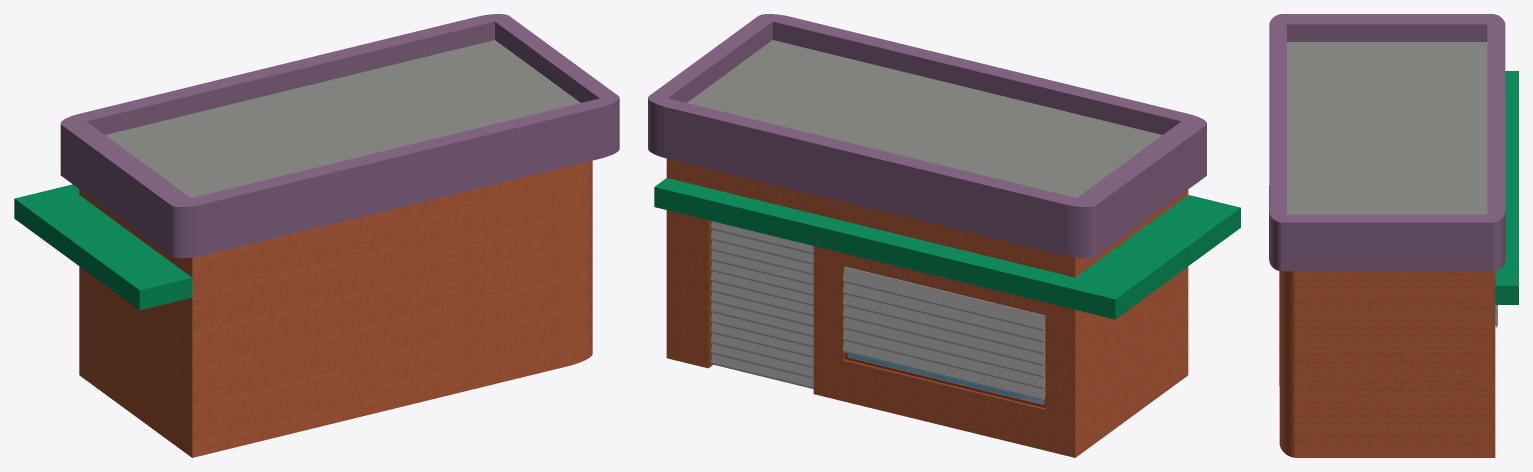
File: SmallShop.fbx
The picture shows the model from 3 angles, left to right: view 1: azimuth 30°, elevation 25°; view 2: azimuth 150°, elevation 25°; view 3: azimuth 270°, elevation 25°; orthographic projection. The views are drawn at different scales.
Visible parts, largest first — view 1: SmallShop; view 2: SmallShop; view 3: SmallShop.
Part boxes in pixels (x1,y1,x2,y2): SmallShop: [14, 14, 619, 457]; SmallShop: [648, 14, 1240, 457]; SmallShop: [1269, 14, 1518, 457].
Bounding box in the file's own units: 22.32 × 24.11 × 47.33.
